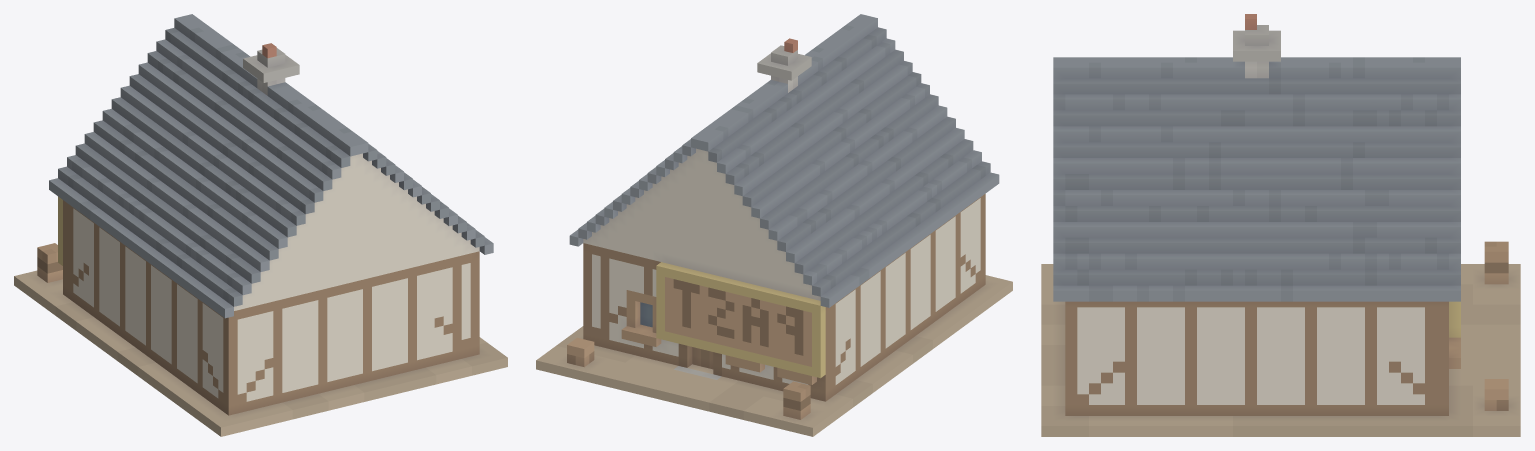
Rendered from pastry_kitchen.glb.
The picture shows the model from 3 angles, left to right: view 1: azimuth 30°, elevation 25°; view 2: azimuth 150°, elevation 25°; view 3: azimuth 270°, elevation 25°; orthographic projection. The views are drawn at different scales.
Parts seen in each view (by area): view 1: pastry_kitchen; view 2: pastry_kitchen; view 3: pastry_kitchen.
Part boxes in pixels (x1,y1,x2,y2): pastry_kitchen: [14, 14, 507, 436]; pastry_kitchen: [536, 14, 1012, 436]; pastry_kitchen: [1041, 14, 1520, 436].
Size of the model in its own units: 4 by 3.88 by 5.
